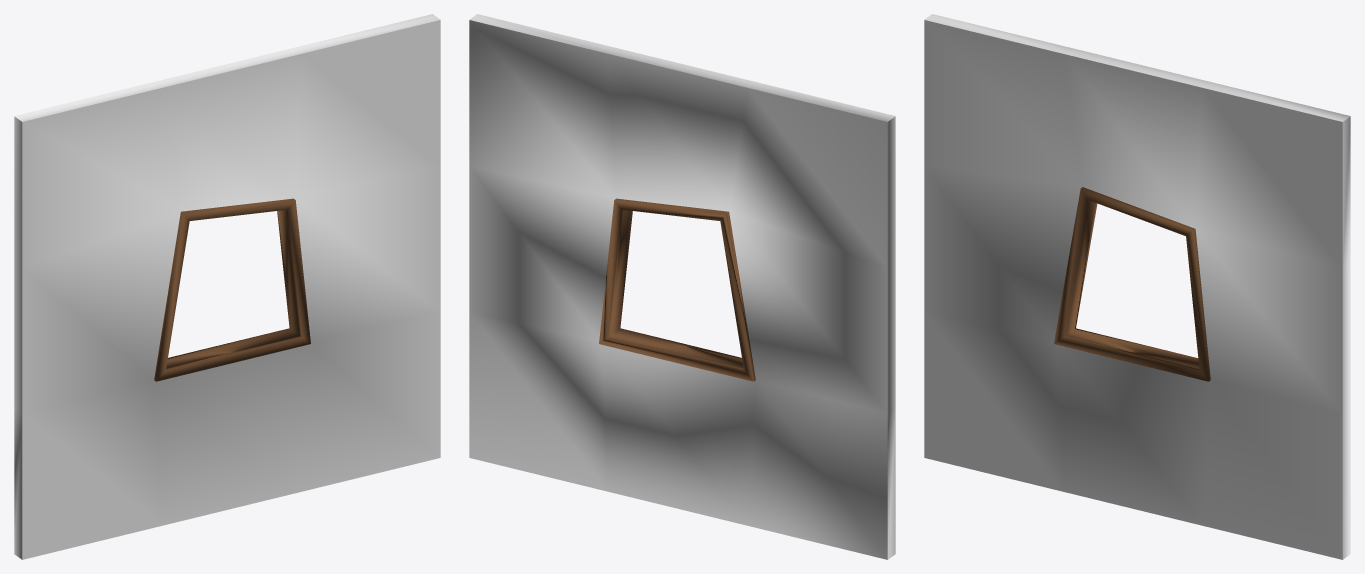
The model's file is WallWindow1.fbx.
The picture shows the model from 3 angles, left to right: view 1: azimuth 30°, elevation 25°; view 2: azimuth 150°, elevation 25°; view 3: azimuth 330°, elevation 25°; orthographic projection.
Visible parts, largest first — view 1: WallWindow1; view 2: WallWindow1; view 3: WallWindow1.
Part boxes in pixels (bbox=[...]): WallWindow1: bbox=[14, 14, 440, 559]; WallWindow1: bbox=[469, 14, 895, 559]; WallWindow1: bbox=[924, 14, 1350, 559].
Bounding box in the file's own units: 300 × 300 × 15.28.
